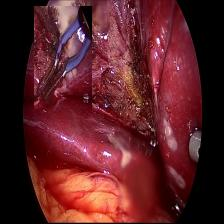Bipolar: (34, 6, 92, 110)
Irrigator: (187, 132, 205, 164)
